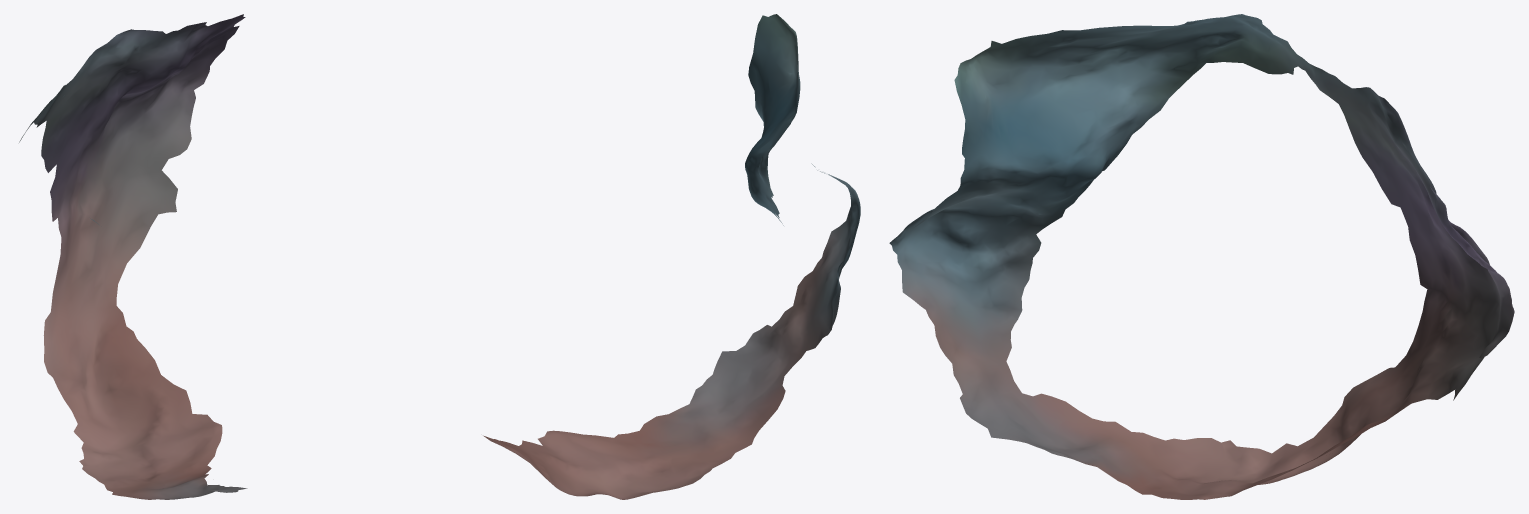
The model's file is LODS_Cloud_global_3.glb.
The picture shows the model from 3 angles, left to right: view 1: azimuth 30°, elevation 25°; view 2: azimuth 150°, elevation 25°; view 3: azimuth 270°, elevation 25°; orthographic projection. The views are drawn at different scales.
Visible parts, largest first — view 1: LOD0; view 2: LOD0; view 3: LOD0.
Boxes of the visible parts, x1=… form: LOD0: x1=19, y1=14, x2=247, y2=499; LOD0: x1=483, y1=14, x2=860, y2=499; LOD0: x1=889, y1=14, x2=1514, y2=499.
Size of what is drawn, in the model's own units: 0.2428 by 0.2942 by 0.3591.
